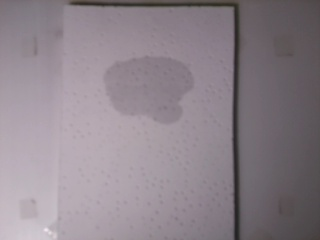Water_detected: (111, 64, 186, 111)
